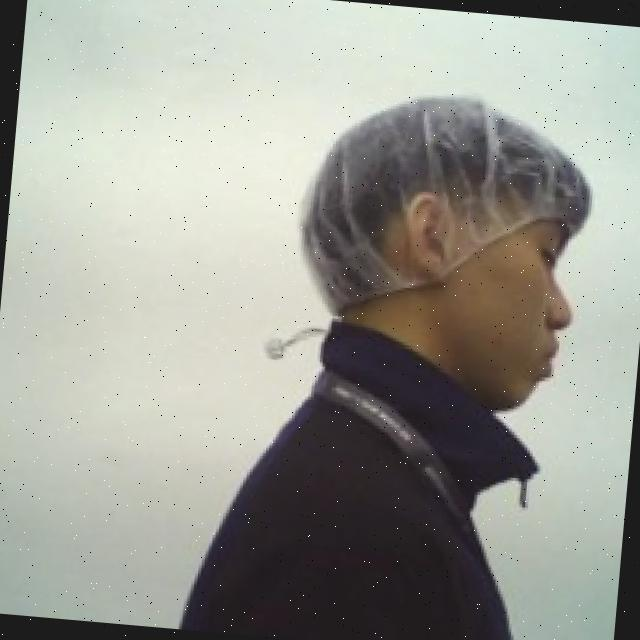gloves: (293, 75, 604, 342)
no_hairnet: (384, 190, 585, 424)
